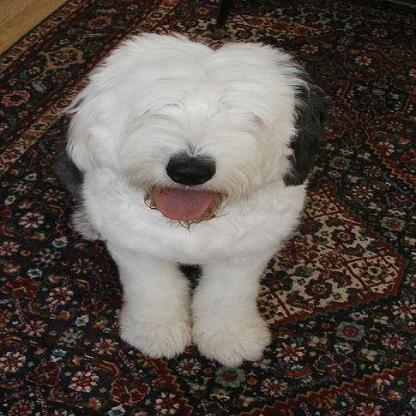Old_English_sheepdog: (65, 29, 314, 366)
